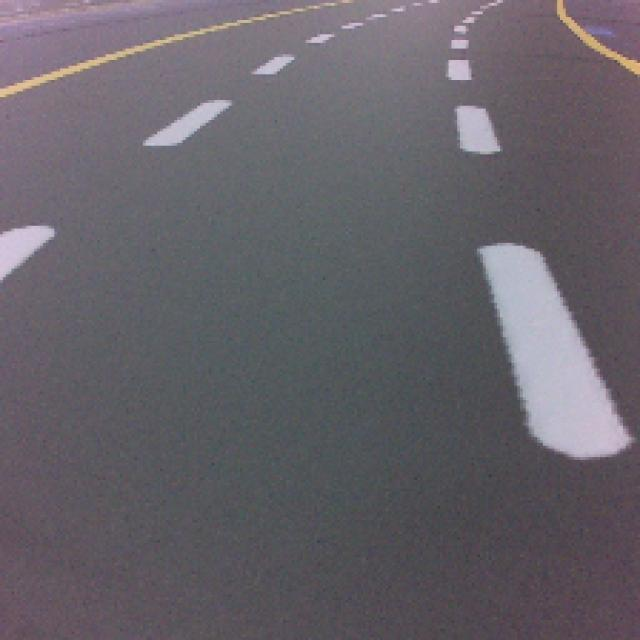Road: (0, 335, 537, 634)
